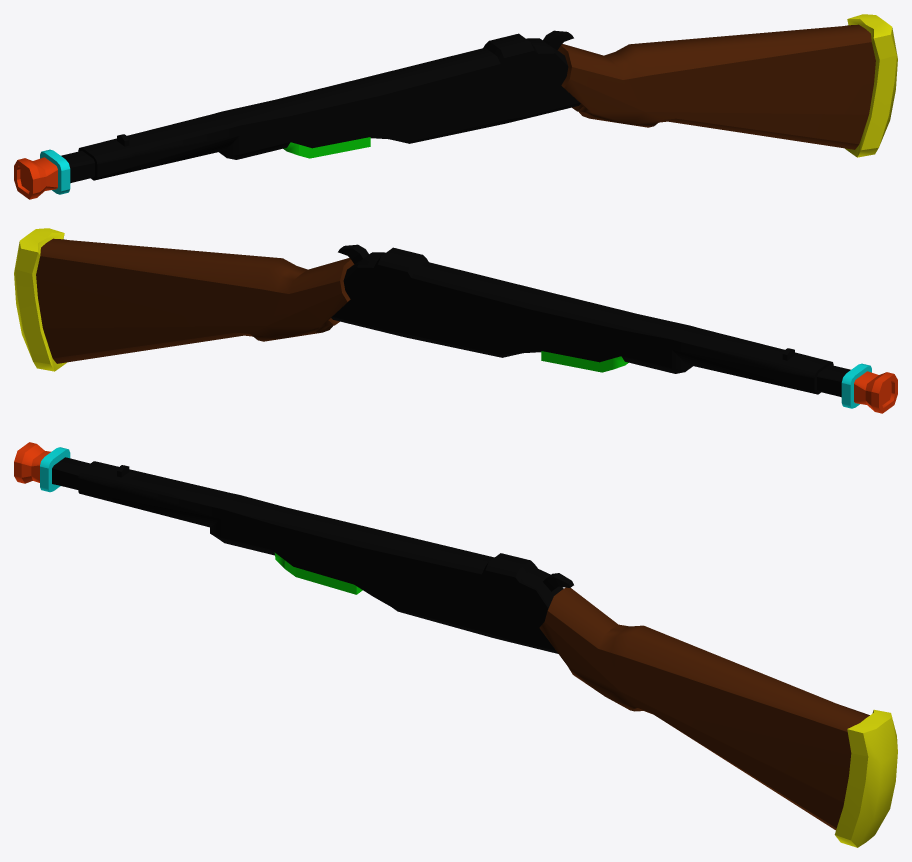
File: gun fbx no handle n dat.fbx
3 views of the same model, one above another, from view 1: azimuth 30°, elevation 25°; view 2: azimuth 150°, elevation 25°; view 3: azimuth 330°, elevation 25° (orthographic).
Parts seen in each view (by area): view 1: pCube1; view 2: pCube1; view 3: pCube1.
Boxes of the visible parts, box(x1,y1,x2,y2) form: pCube1: box(14, 14, 897, 199); pCube1: box(14, 228, 897, 413); pCube1: box(14, 442, 897, 847).
Size of the model in its own units: 11.94 by 2.56 by 0.692.
